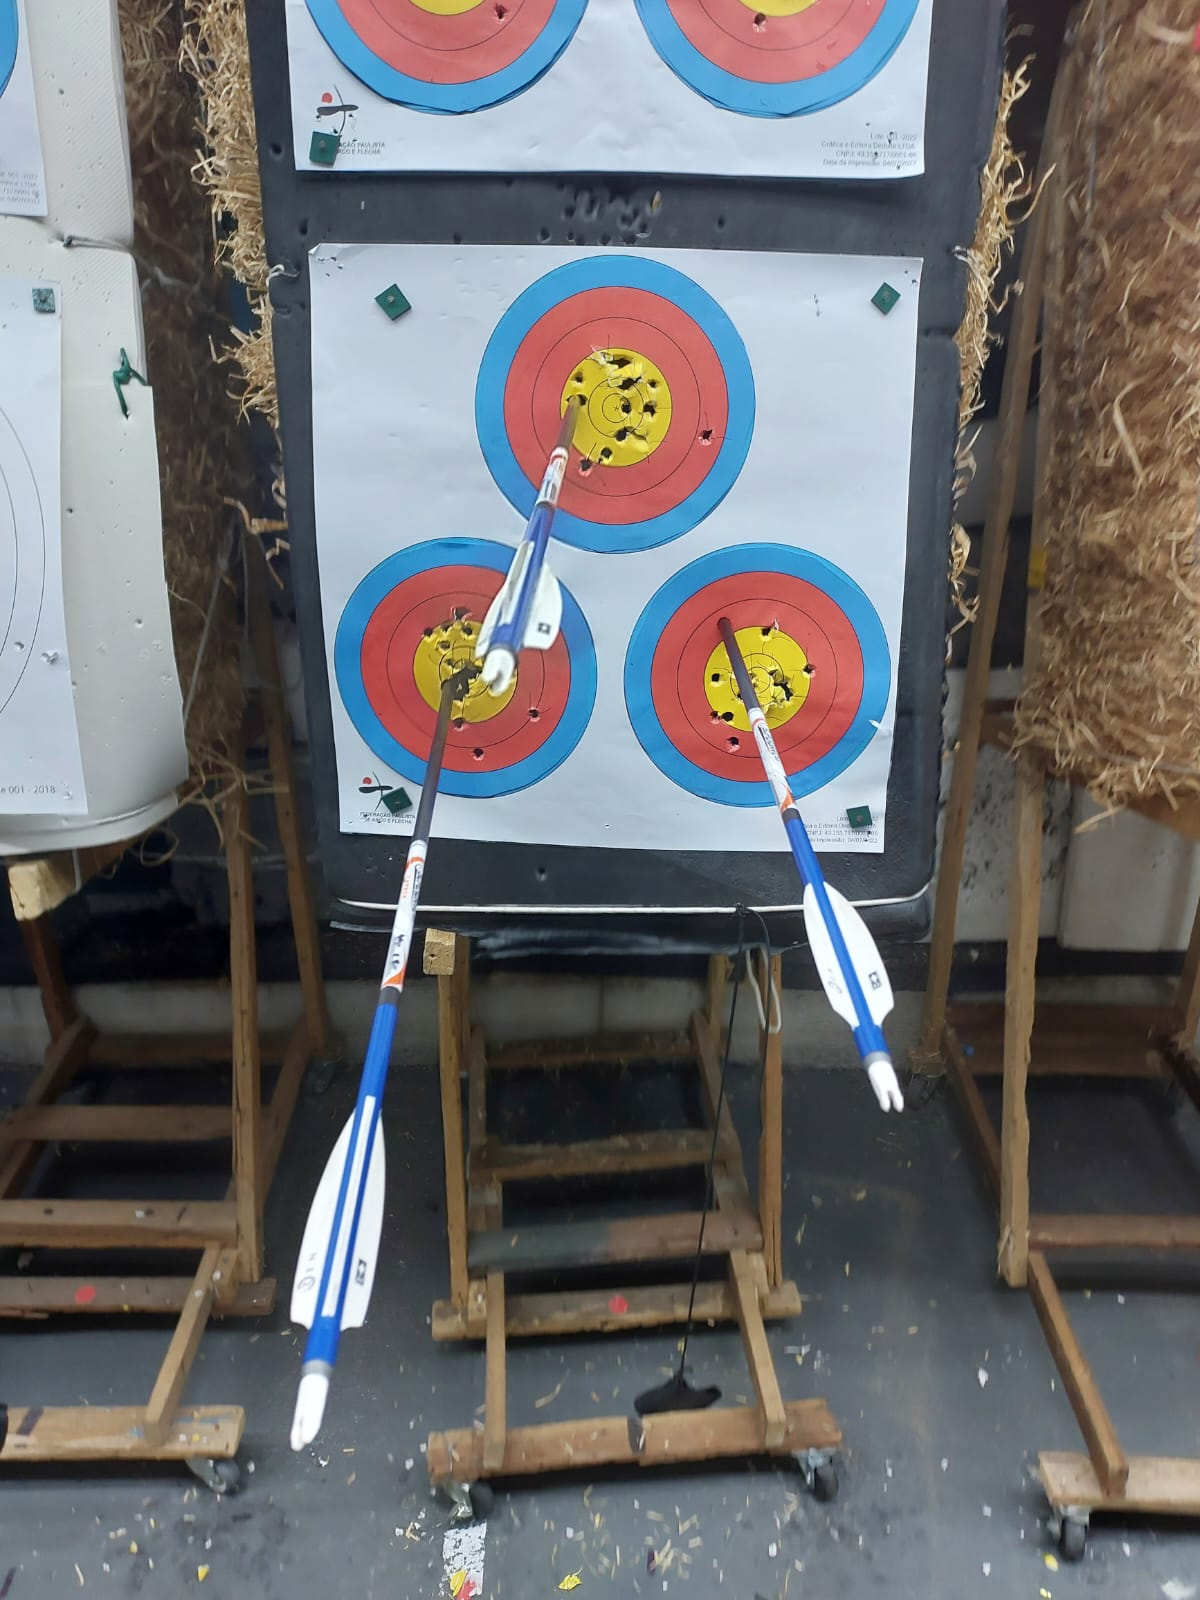8: (625, 540, 889, 830)
9: (485, 273, 766, 551)
9 linha 10: (347, 539, 595, 818)
